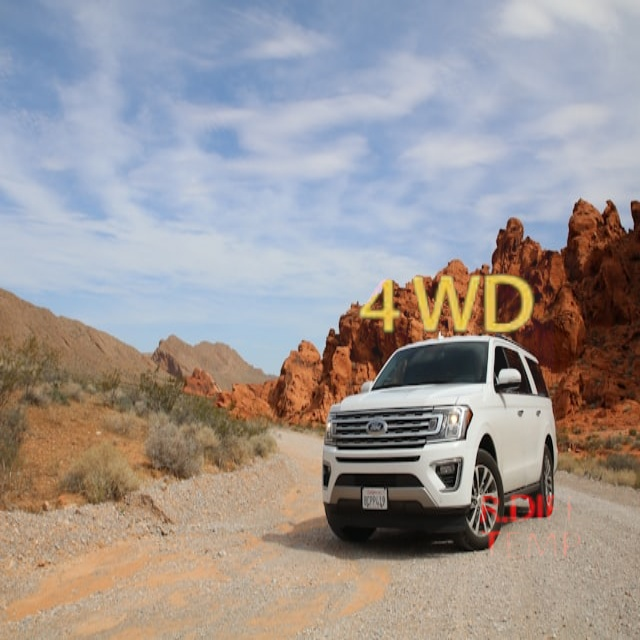symbol: (336, 197, 554, 415), (455, 452, 608, 605)
